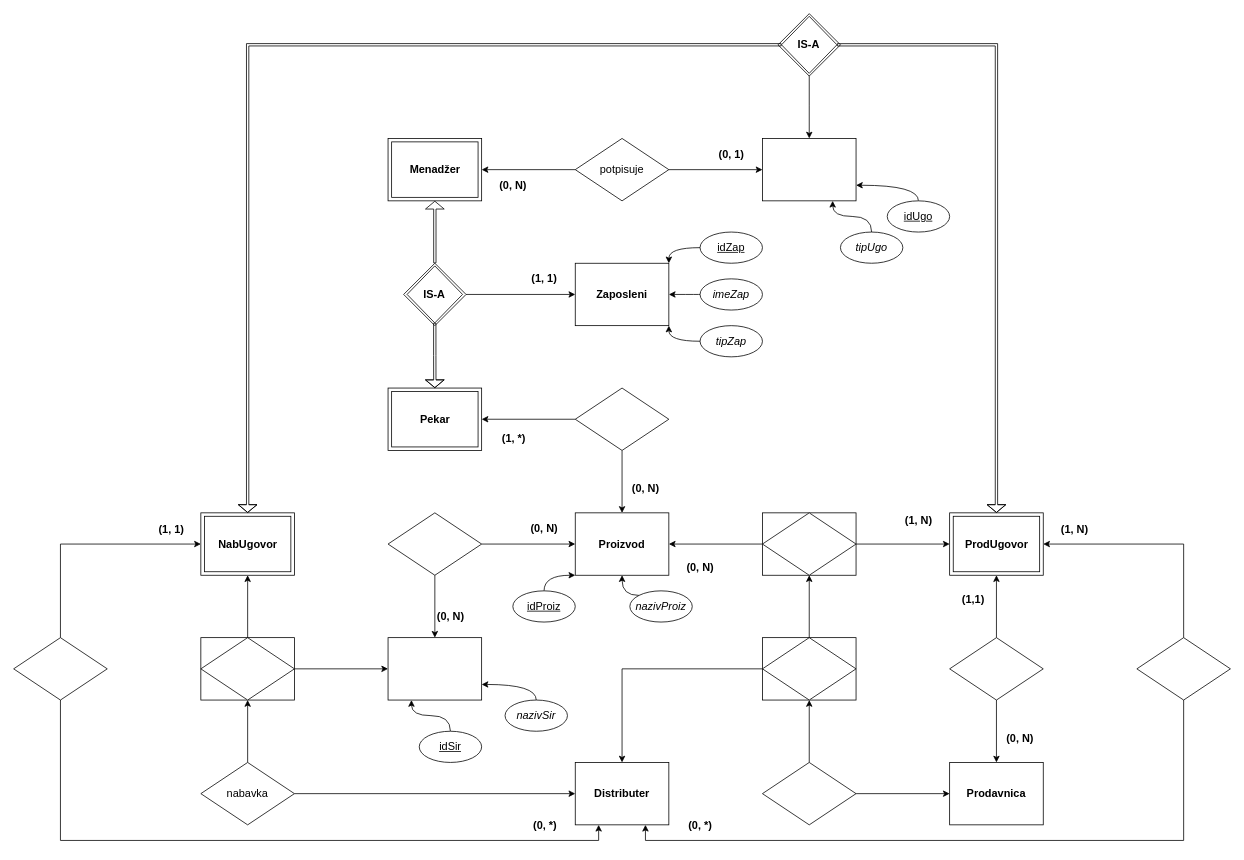
Some shapes in this 1244 by 860 pixel diagram are drawn without their labels. The shapes that lost their labels are listed below. From the top down, each one's centre as x and y in pixels, then its label:
point 809,169: Ugovor
point 621,418: pravi
point 434,543: sastav
point 809,543: obuhvataProiz
point 60,668: potpisanNDist
point 247,668: obuhvataSir
point 434,668: Sirovina
point 809,668: isporučuje
point 996,668: potpisan sa prod
point 1183,668: potpisanPDist
point 809,793: dostava
